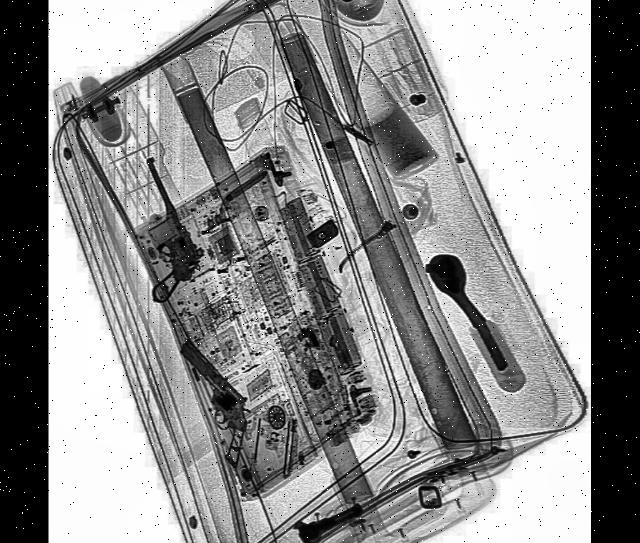Gun: (102, 151, 212, 308), (158, 332, 268, 466), (292, 490, 369, 543)
